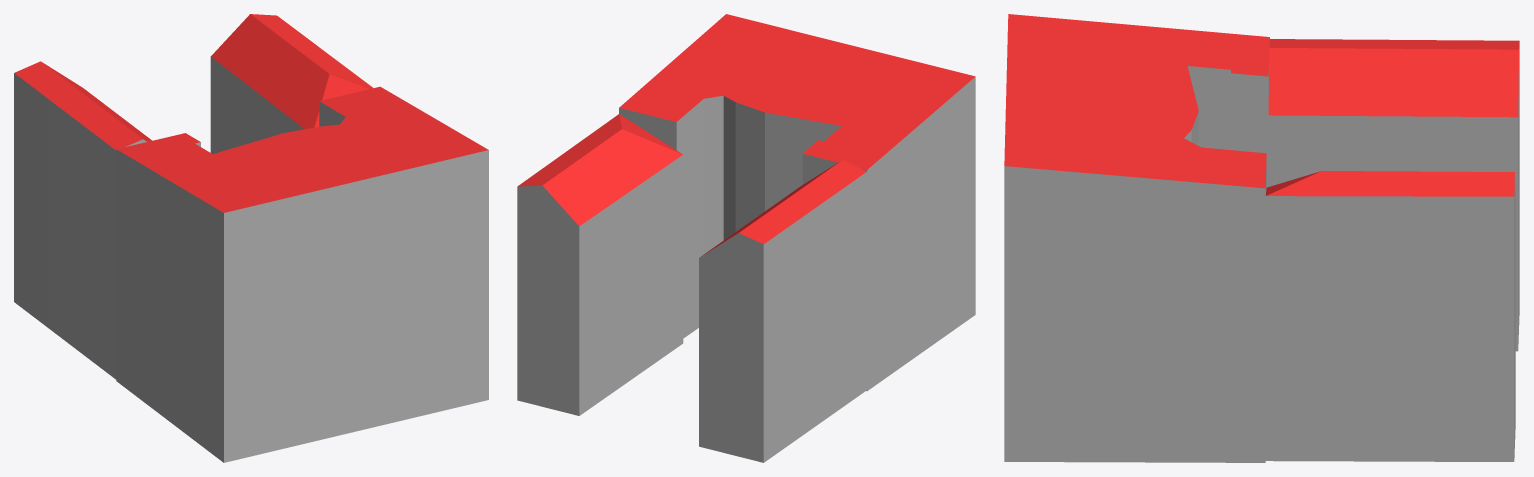
File: DEBE3D04YY50000FcR.dae
3 renders of one model, left to right at view 1: azimuth 30°, elevation 25°; view 2: azimuth 150°, elevation 25°; view 3: azimuth 270°, elevation 25°, orthographic. The views are drawn at different scales.
Bounding box in the file's own units: 25.36 × 35.81 × 22.69.
